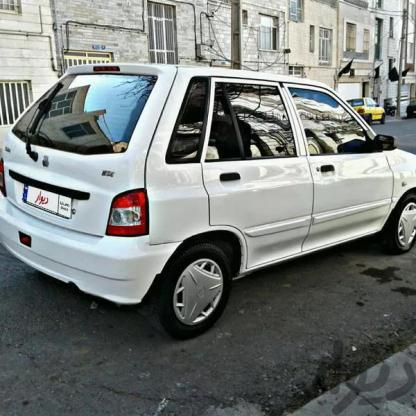Car: (0, 56, 416, 332), (336, 96, 388, 130)
